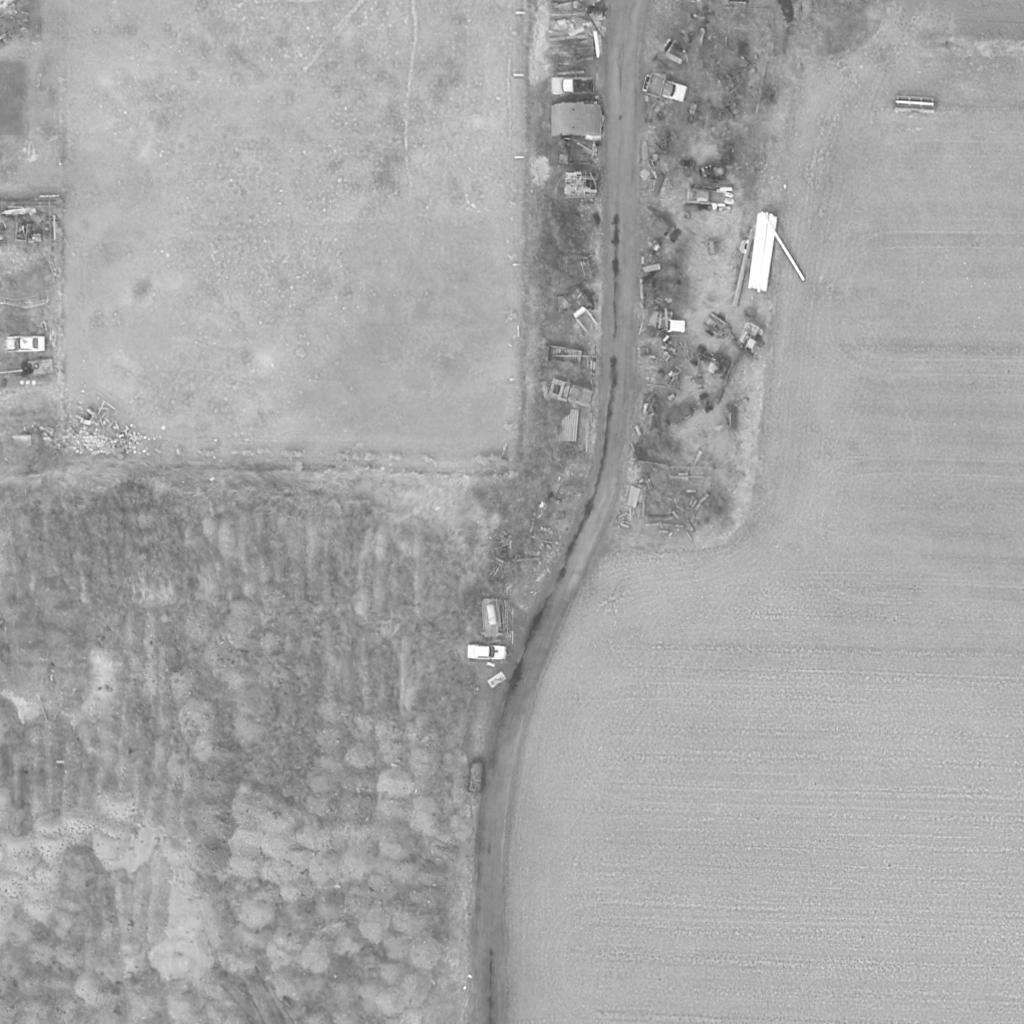vehicle: (639, 75, 689, 103), (549, 379, 595, 409), (549, 77, 597, 95), (685, 188, 727, 208), (468, 644, 508, 664), (4, 337, 46, 353)
